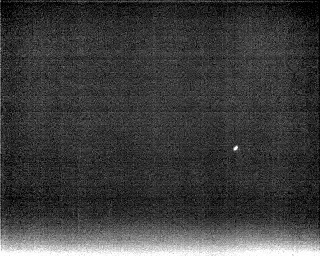BIRD: (231, 142, 241, 154)
